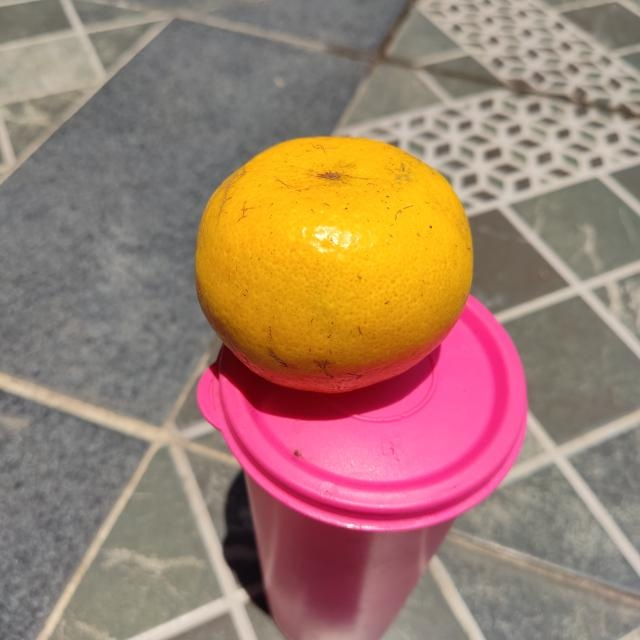agrume: (191, 133, 476, 399)
